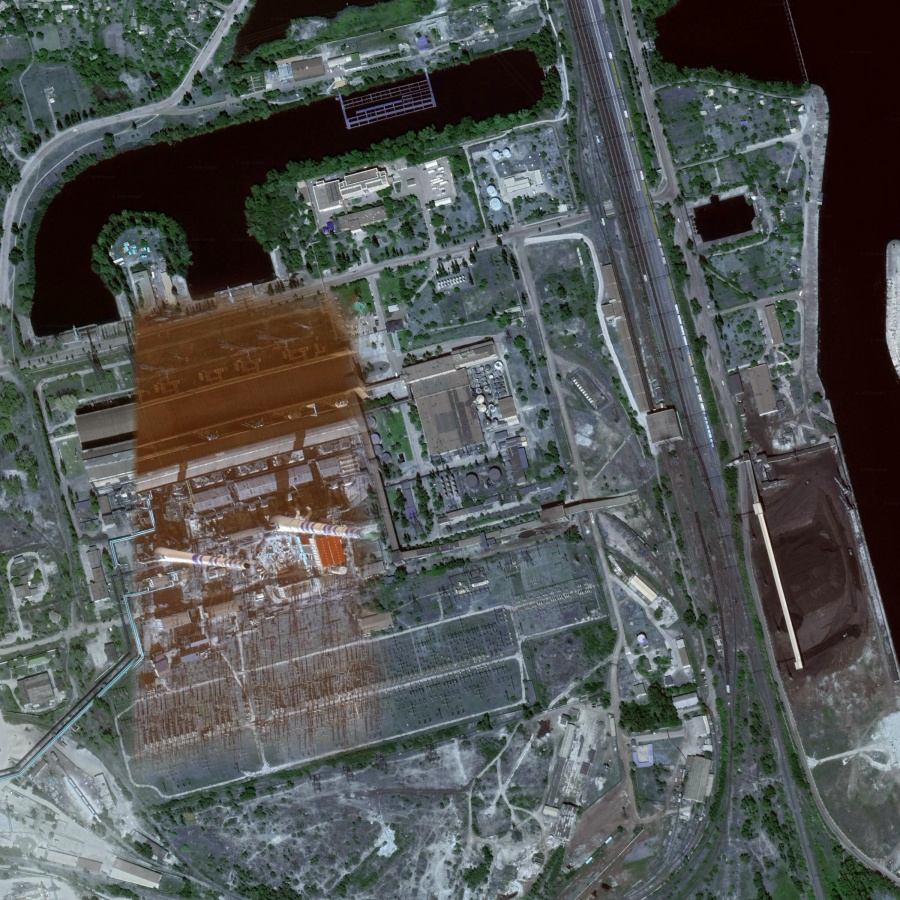PowerPlant: (99, 388, 439, 657)
